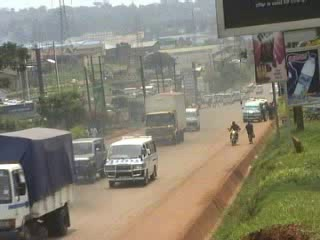Car: (68, 134, 109, 184)
Motorcycle: (226, 118, 241, 146)
